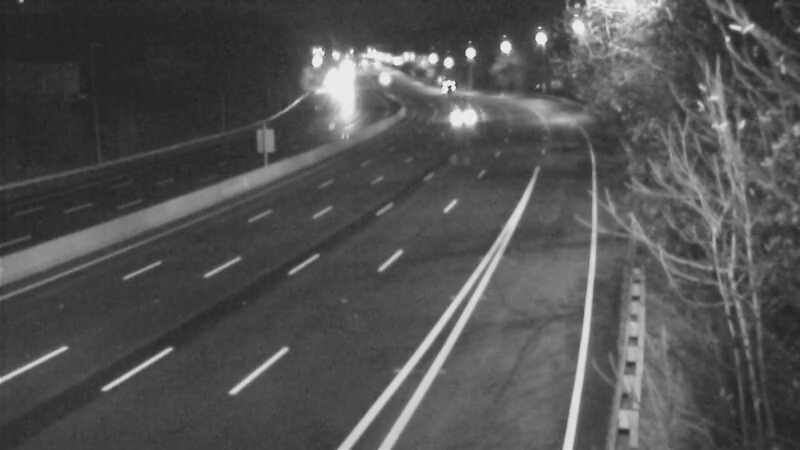vehicle: (358, 54, 408, 104), (416, 59, 466, 109), (442, 89, 492, 139)
